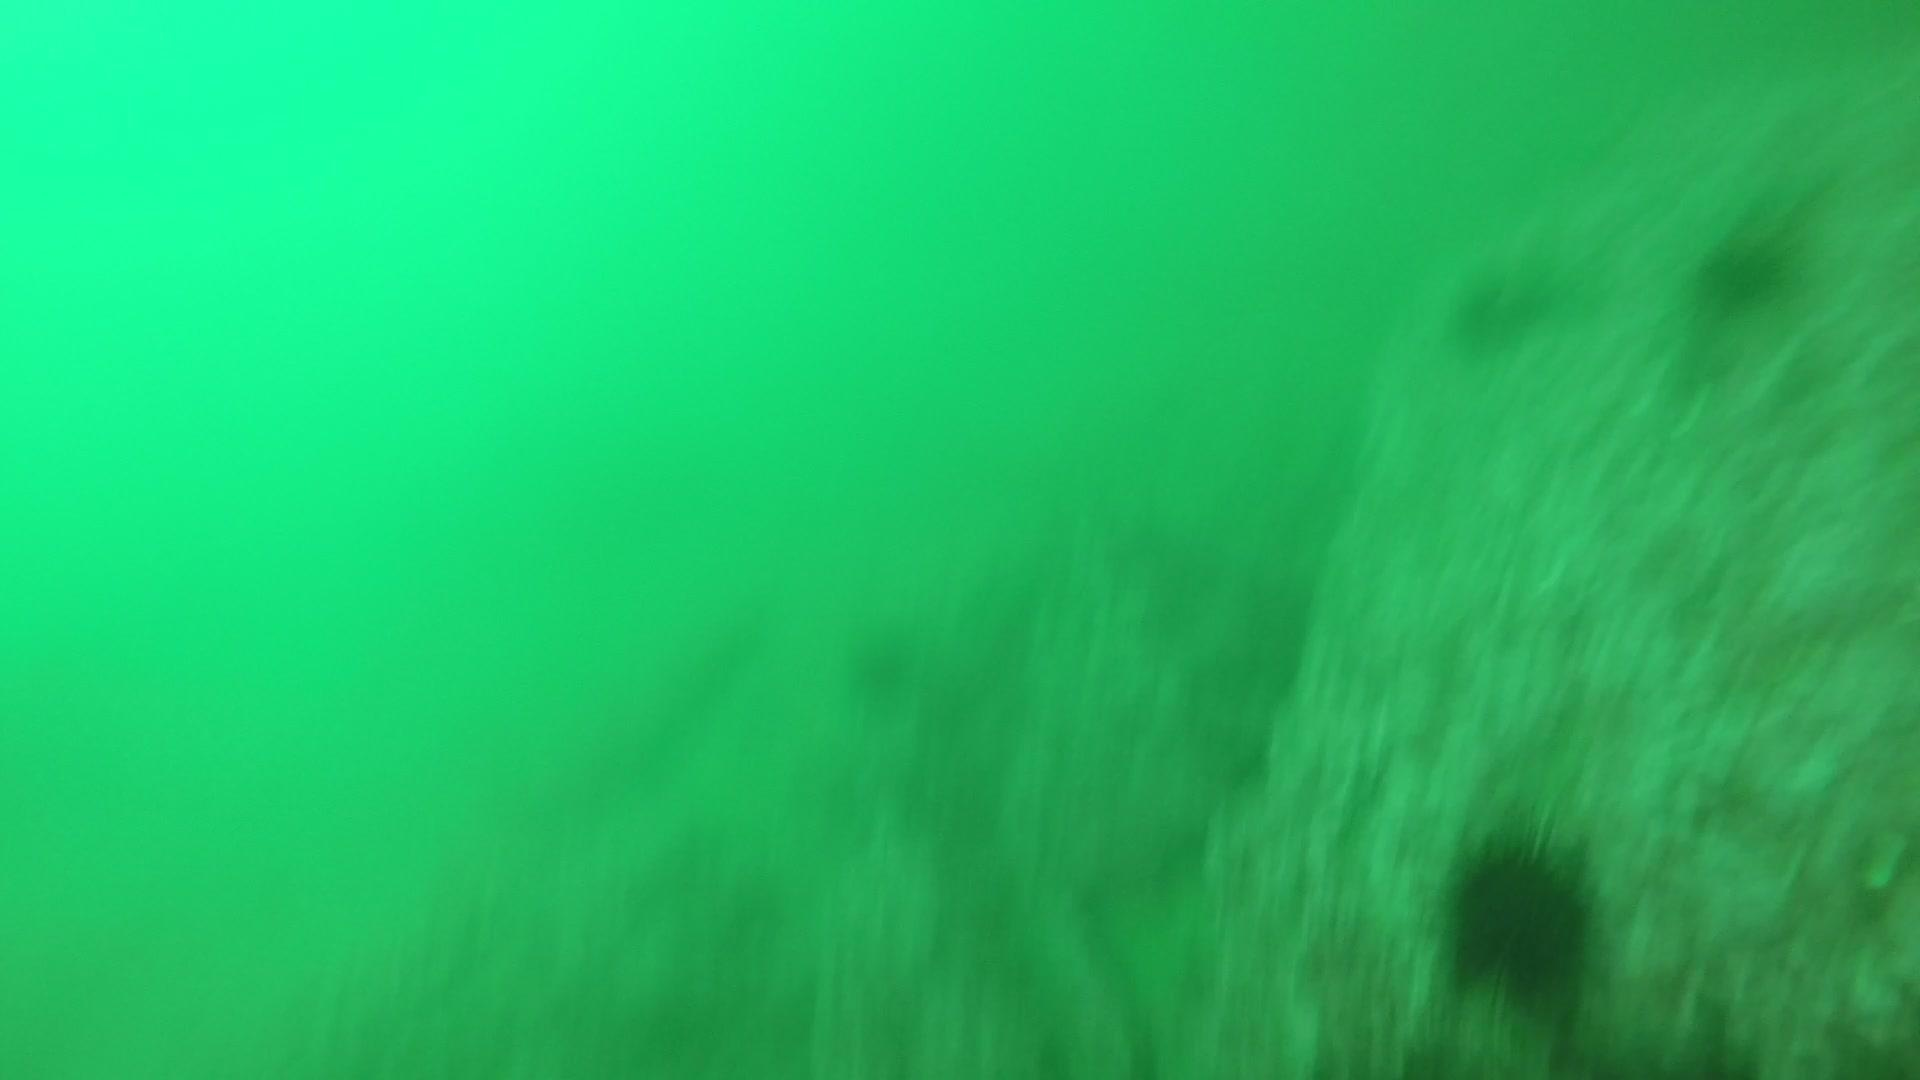echinus: (1436, 823, 1605, 1002), (1688, 215, 1805, 314), (1443, 255, 1557, 353), (843, 617, 922, 702)
